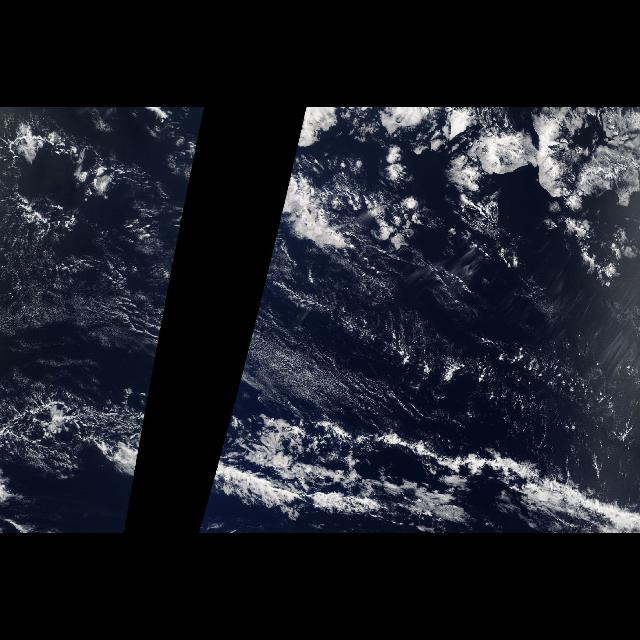Gravel: (464, 320, 622, 474), (0, 111, 162, 256)
Sugar: (223, 252, 422, 444), (8, 252, 175, 444)
